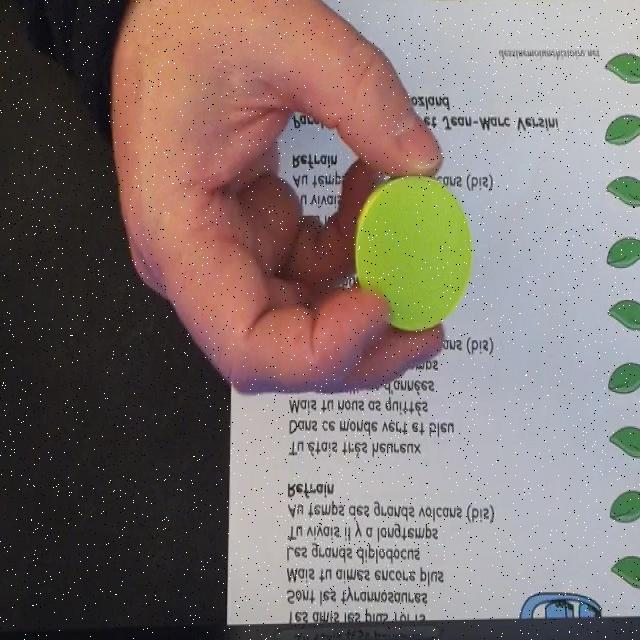round: (354, 173, 474, 333)
